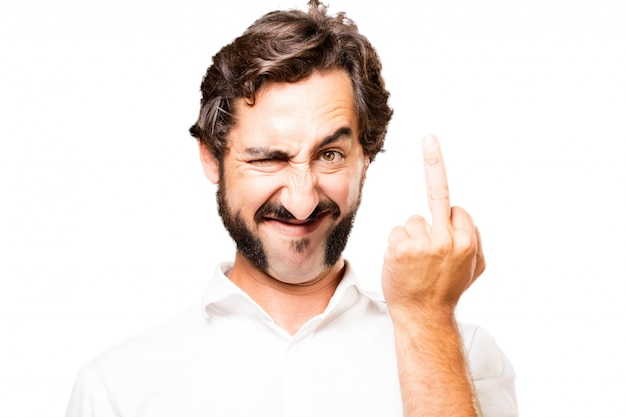insulting_gesture: (377, 132, 488, 311)
